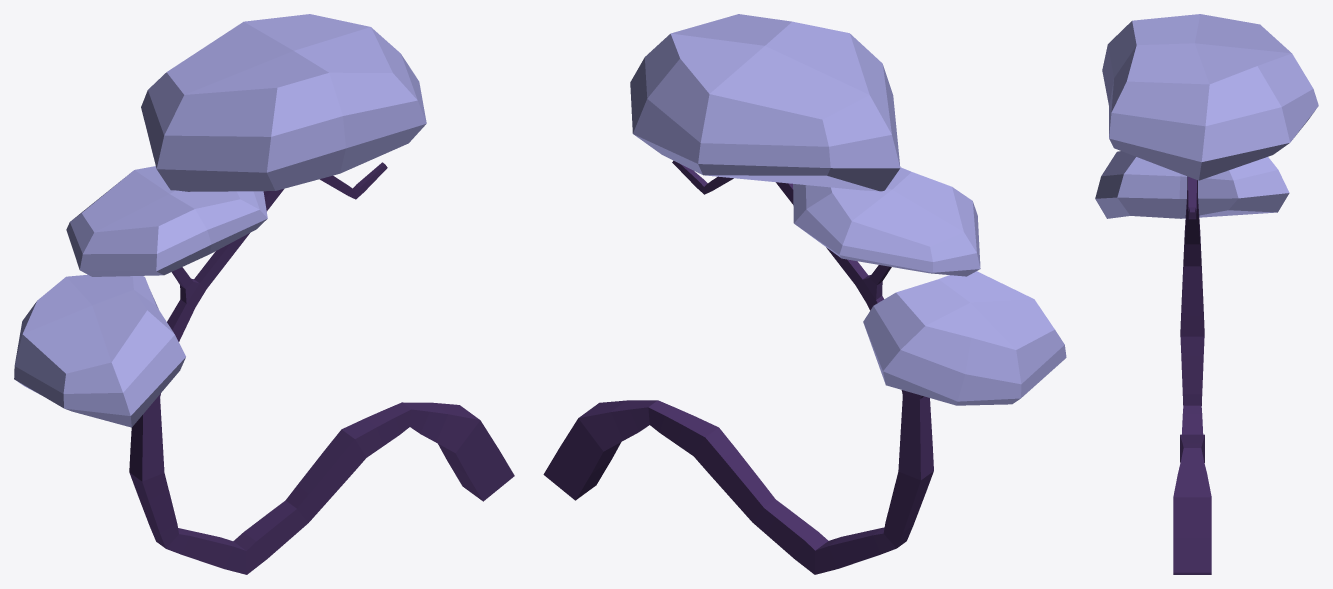
The model's file is Bush_01.fbx.
3 views of the same model, side by side, from view 1: azimuth 30°, elevation 25°; view 2: azimuth 150°, elevation 25°; view 3: azimuth 270°, elevation 25° (orthographic). The views are drawn at different scales.
Visible parts, largest first — view 1: Bush_01; view 2: Bush_01; view 3: Bush_01.
Part boxes in pixels (bbox=[...]): Bush_01: bbox=[14, 14, 514, 574]; Bush_01: bbox=[543, 14, 1066, 574]; Bush_01: bbox=[1095, 14, 1318, 574].
Bounding box in the file's own units: 569 × 577 × 250.
